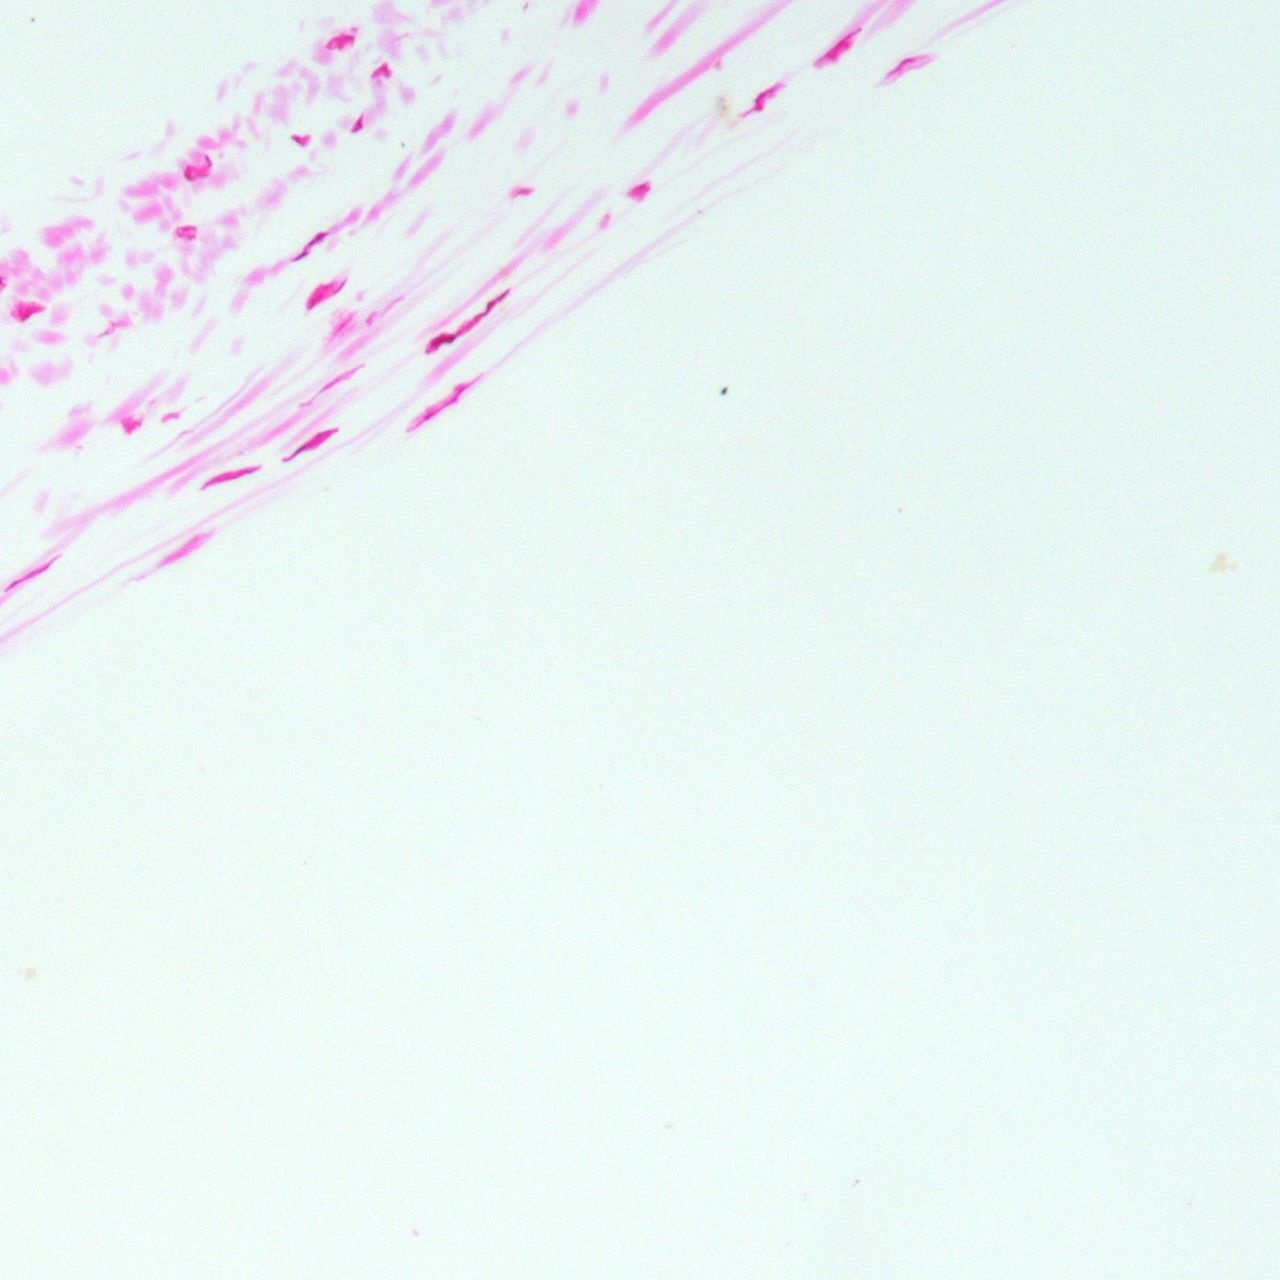dust: (719, 386, 729, 396), (29, 18, 36, 23), (400, 141, 406, 148)
nucleus-FG: (406, 372, 488, 433), (451, 286, 516, 338), (280, 424, 340, 465), (305, 365, 358, 402), (4, 557, 57, 593), (198, 463, 263, 490), (290, 229, 329, 266), (822, 29, 862, 64), (423, 328, 455, 355), (324, 29, 356, 53), (302, 281, 327, 312), (329, 311, 354, 340), (887, 53, 915, 76), (751, 86, 772, 111), (348, 115, 367, 137), (183, 165, 195, 182), (21, 309, 35, 322), (292, 135, 307, 147), (377, 63, 390, 76), (632, 184, 649, 193), (334, 279, 345, 293), (175, 232, 195, 239), (177, 225, 195, 231)
